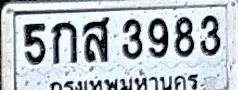3: (122, 18, 142, 59), (200, 15, 220, 56)
5: (24, 23, 46, 65)
8: (174, 16, 194, 57)
9: (147, 17, 168, 58)
A01: (51, 21, 77, 64)
A40: (82, 16, 110, 62)
